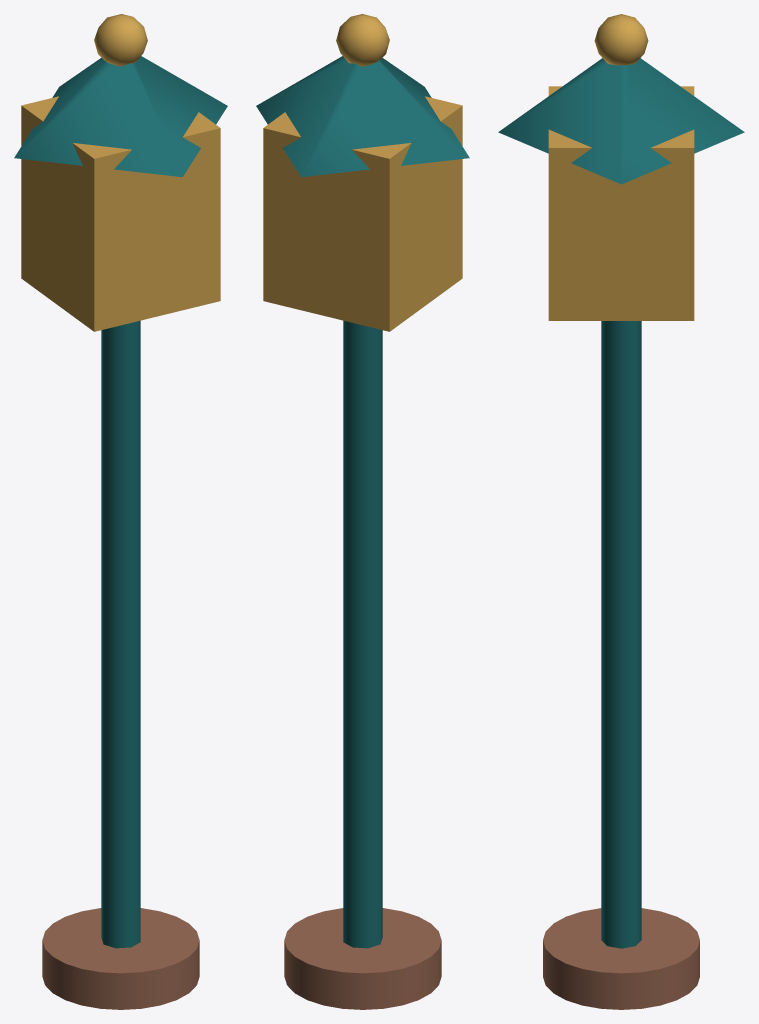
The model's file is deco_lamp.glb.
3 views of the same model, side by side, from view 1: azimuth 30°, elevation 25°; view 2: azimuth 150°, elevation 25°; view 3: azimuth 270°, elevation 25° (orthographic).
Visible parts, largest first — view 1: deco_lamp; view 2: deco_lamp; view 3: deco_lamp.
Part boxes in pixels (left/top/right/bottom): deco_lamp: left=14, top=14, right=227, bottom=1009; deco_lamp: left=256, top=14, right=469, bottom=1009; deco_lamp: left=498, top=14, right=744, bottom=1009.
Size of the model in its own units: 1.1 by 4.72 by 1.1.
